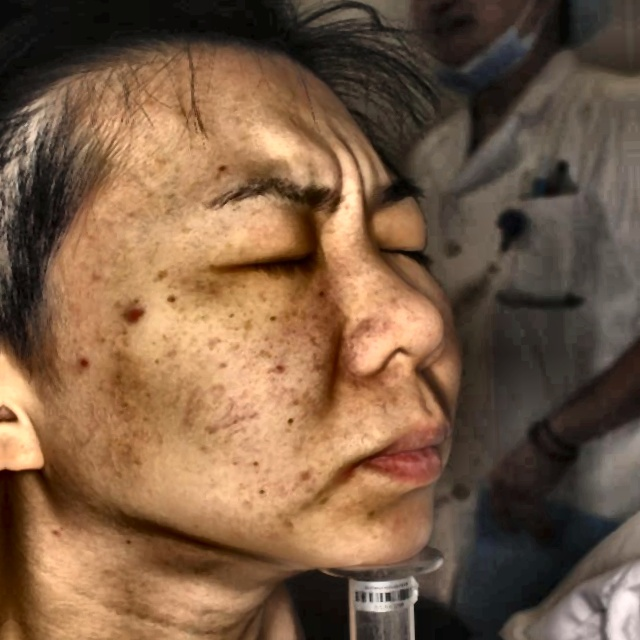comedone: (123, 304, 144, 330)
